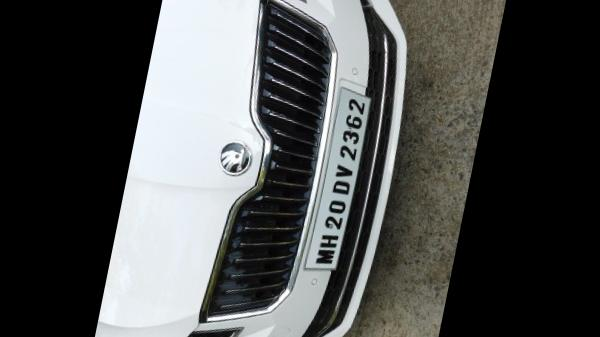plate: (297, 68, 385, 281)
